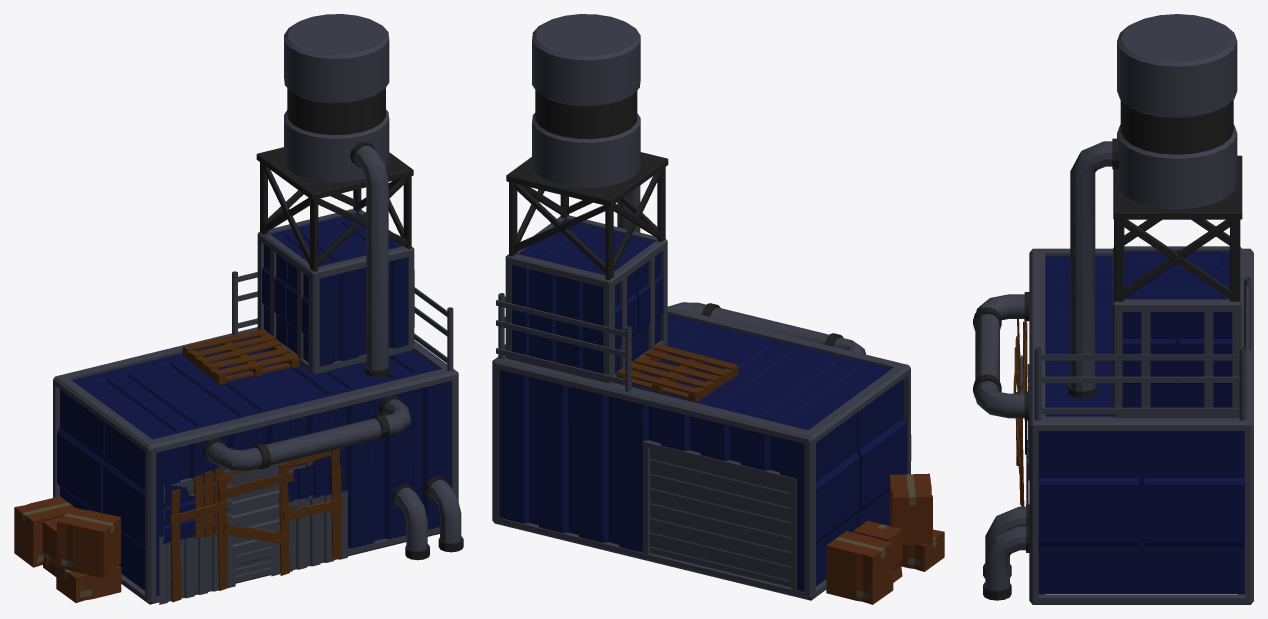
File: Structure_3.obj
The picture shows the model from 3 angles, left to right: view 1: azimuth 30°, elevation 25°; view 2: azimuth 150°, elevation 25°; view 3: azimuth 270°, elevation 25°; orthographic projection. The views are drawn at different scales.
Visible parts, largest first — view 1: Structure_3_Cube.333; view 2: Structure_3_Cube.333; view 3: Structure_3_Cube.333.
Part boxes in pixels (x1,y1,x2,y2): Structure_3_Cube.333: (14,14,463,604); Structure_3_Cube.333: (492,14,944,604); Structure_3_Cube.333: (973,14,1253,604).
Bounding box in the file's own units: 7.87 × 9.52 × 4.52.
